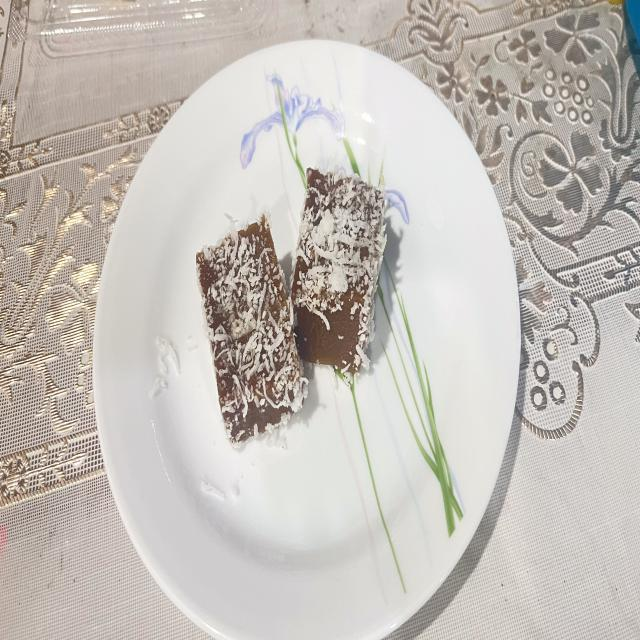kaswi: (196, 213, 308, 444), (291, 169, 386, 373)
